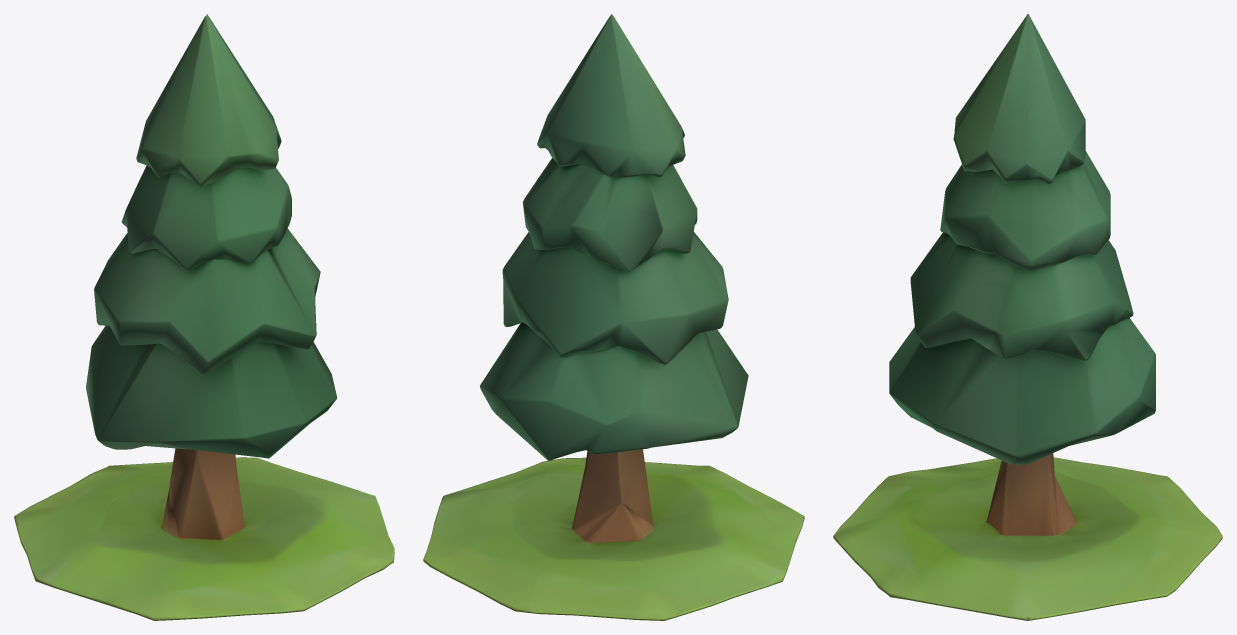
Rendered from Meshy_AI_Evergreen_Geometry_0131095739_texture.fbx.
3 views of the same model, side by side, from view 1: azimuth 30°, elevation 25°; view 2: azimuth 150°, elevation 25°; view 3: azimuth 270°, elevation 25° (orthographic).
Visible parts, largest first — view 1: Mesh_0; view 2: Mesh_0; view 3: Mesh_0.
Boxes of the visible parts, box(x1,y1,x2,y2) form: Mesh_0: box(14, 14, 394, 620); Mesh_0: box(423, 14, 804, 620); Mesh_0: box(833, 14, 1222, 620).
Size of the model in its own units: 135 by 200 by 134.
Materials: 1 (1 with a texture image).
